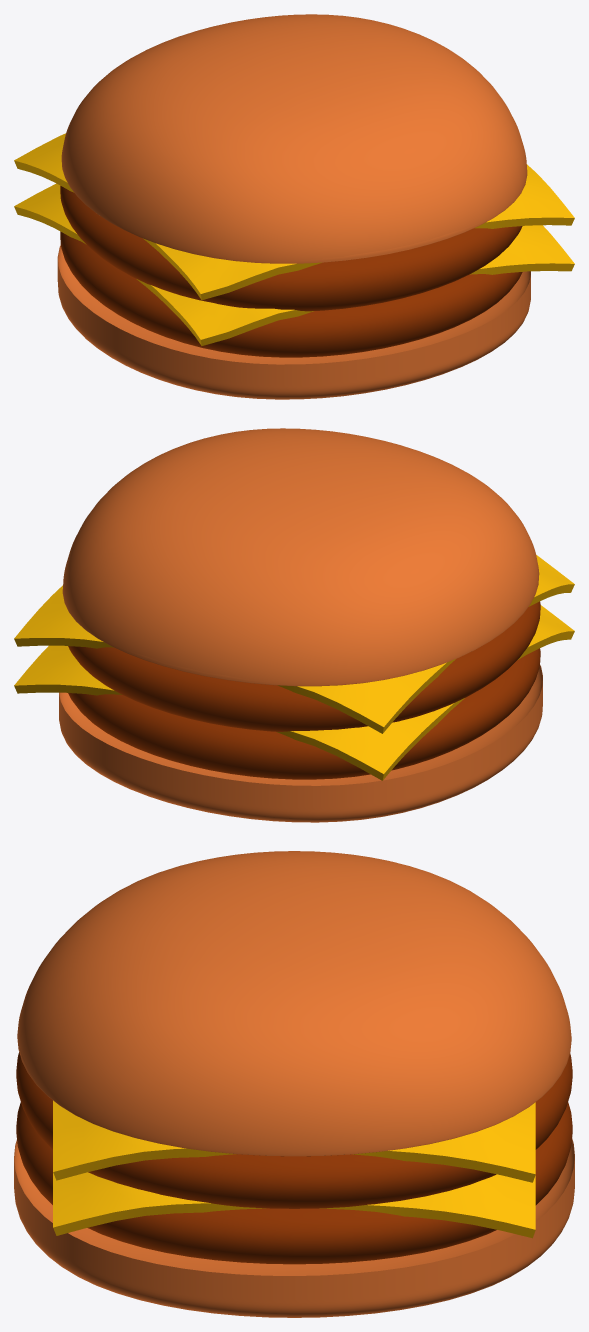
Rendered from hamburger5.glb.
The picture shows the model from 3 angles, top to bottom: view 1: azimuth 30°, elevation 25°; view 2: azimuth 150°, elevation 25°; view 3: azimuth 270°, elevation 25°; orthographic projection. The views are drawn at different scales.
Visible parts, largest first — view 1: 6TopBun; view 2: 6TopBun; view 3: 6TopBun.
Part boxes in pixels (left/top/right/bottom): 6TopBun: left=14, top=14, right=574, bottom=399; 6TopBun: left=14, top=428, right=574, bottom=822; 6TopBun: left=14, top=851, right=574, bottom=1317.
Size of the model in its own units: 1.83 by 1.14 by 1.83.
